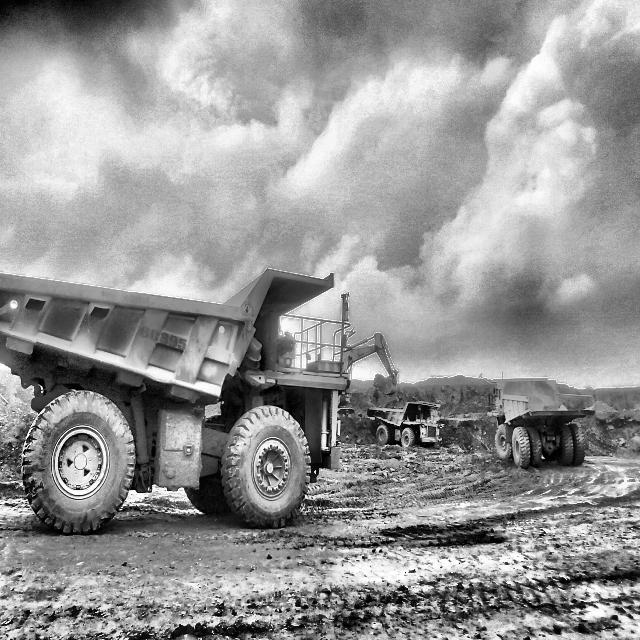dump_truck: (0, 273, 348, 537), (492, 378, 589, 468), (365, 397, 446, 453)
excavator: (343, 331, 399, 397)
